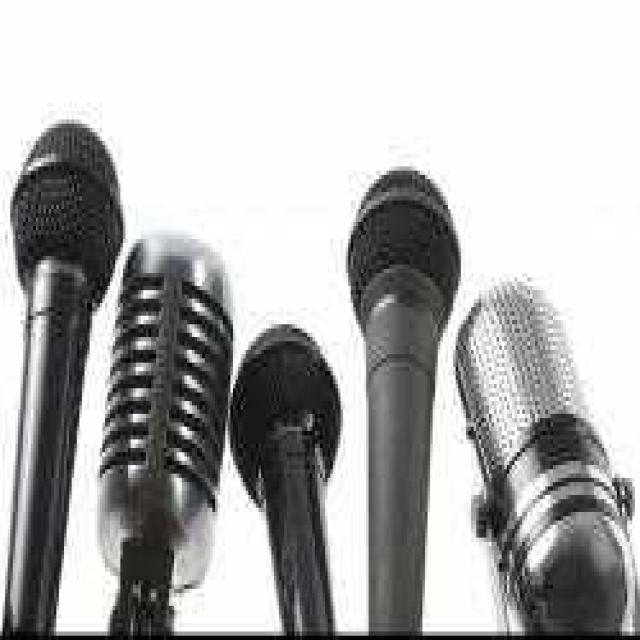microphone: (458, 278, 637, 630), (1, 120, 124, 630), (96, 227, 234, 631), (346, 169, 461, 630), (228, 321, 342, 636)
